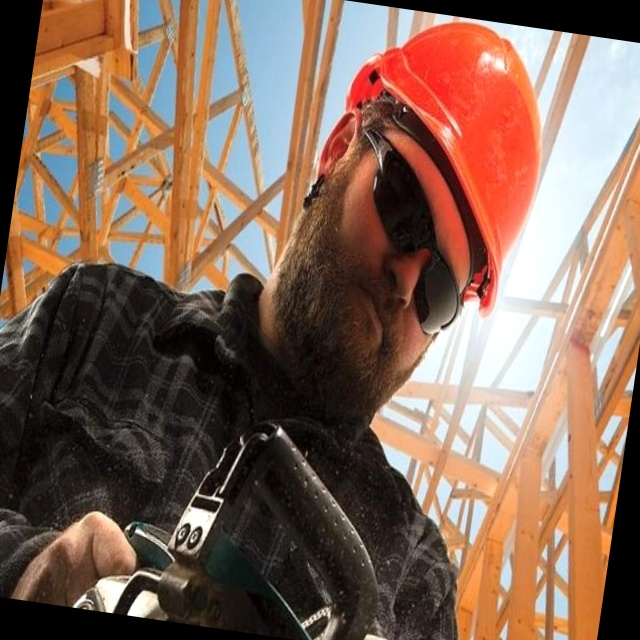goggles: (336, 107, 461, 356)
helmet: (302, 0, 524, 276)
